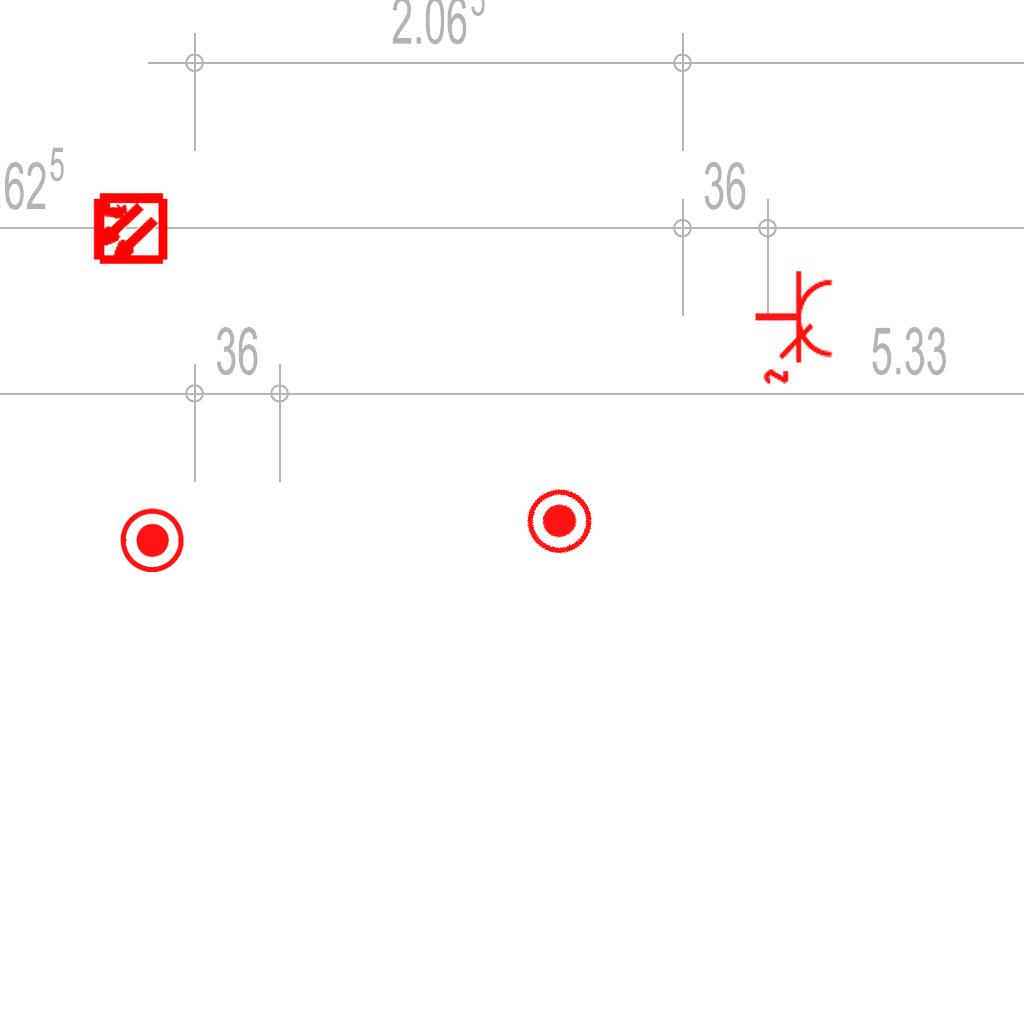OT_Multisensormelder_(Kombination_RMO_WMD): (72, 172, 185, 285)
Schukosteckdose_mehrfach: (749, 266, 837, 387)
Taster: (514, 477, 602, 565), (120, 506, 186, 572)
